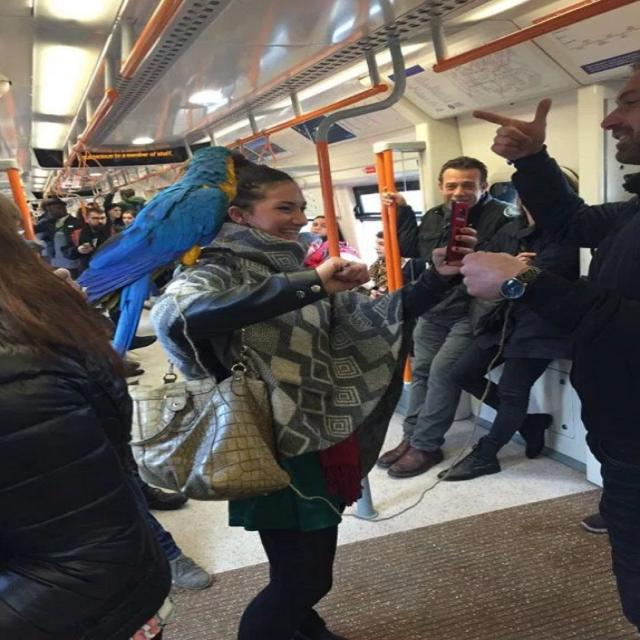body: (120, 146, 410, 640), (469, 56, 640, 630), (0, 190, 175, 640), (368, 152, 525, 482), (437, 165, 581, 482), (130, 465, 221, 602), (24, 190, 82, 288), (60, 206, 124, 278), (353, 228, 407, 296), (100, 332, 158, 391), (80, 182, 146, 227), (130, 263, 183, 311), (573, 508, 610, 540), (309, 214, 328, 242)
